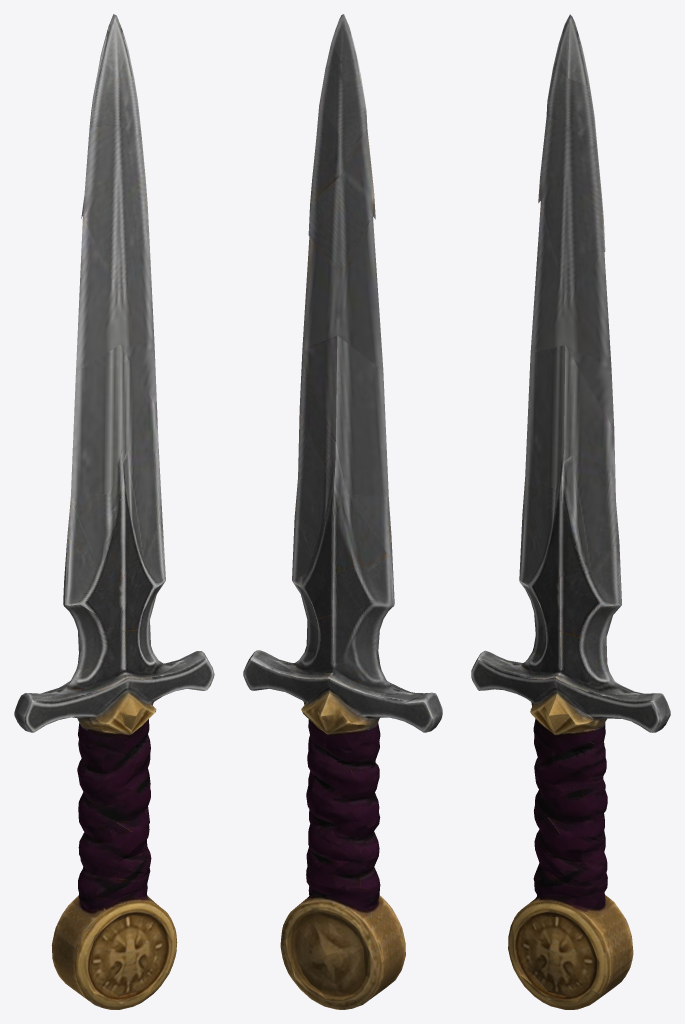
File: coin_dagger.glb
The picture shows the model from 3 angles, left to right: view 1: azimuth 30°, elevation 25°; view 2: azimuth 150°, elevation 25°; view 3: azimuth 330°, elevation 25°; orthographic projection.
Bounding box in the file's own units: 0.2491 × 1.21 × 0.0985.
Materials: 1 (1 with a texture image).
